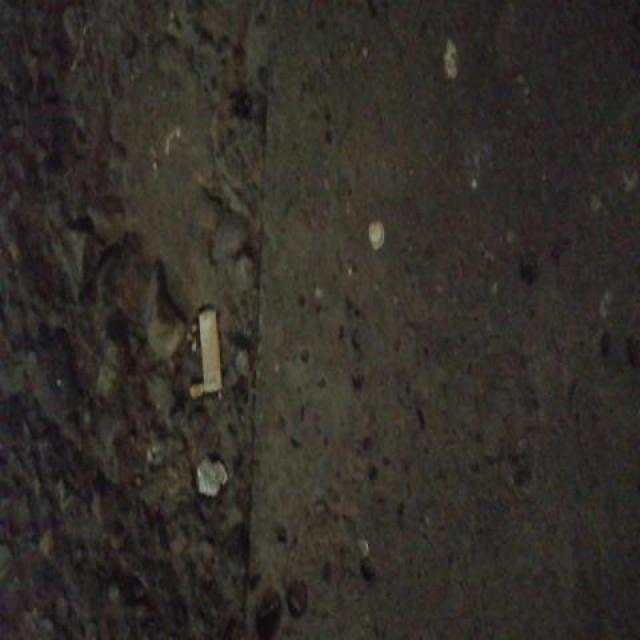non-organic waste: (193, 300, 228, 400)
